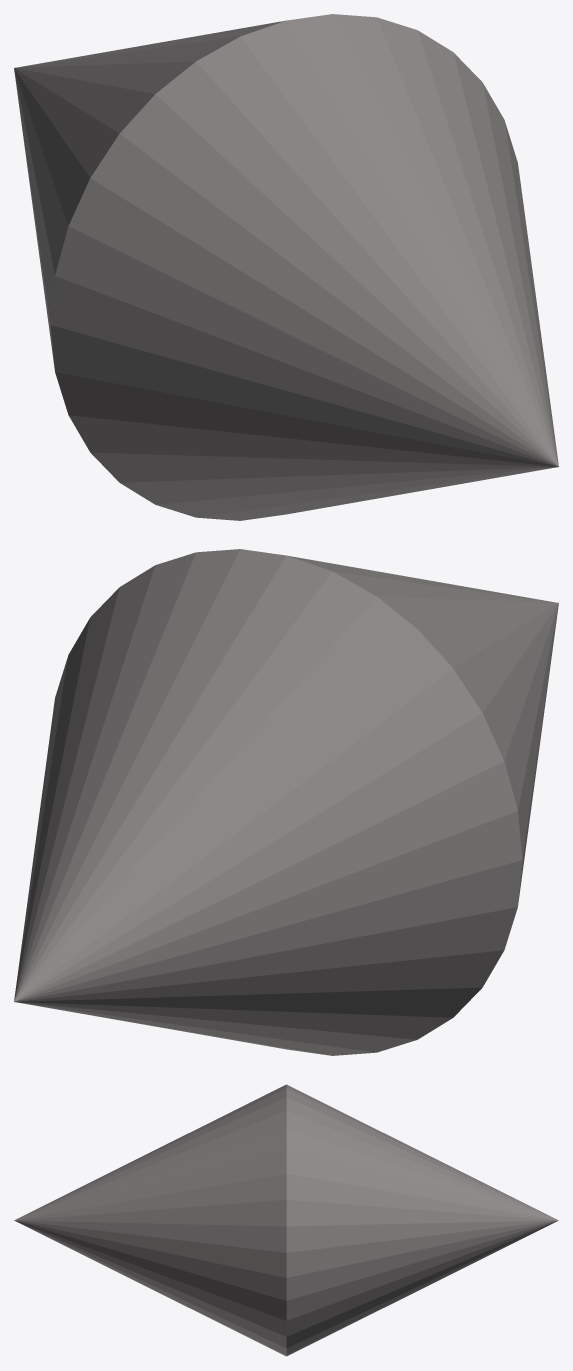
The model's file is Nuclear.obj.
3 views of the same model, one above another, from view 1: azimuth 30°, elevation 25°; view 2: azimuth 150°, elevation 25°; view 3: azimuth 270°, elevation 25° (orthographic). The views are drawn at different scales.
Parts seen in each view (by area): view 1: 円錐; view 2: 円錐; view 3: 円錐.
Boxes of the visible parts, left/top/right/bottom form: 円錐: left=14, top=14, right=558, bottom=520; 円錐: left=14, top=549, right=558, bottom=1055; 円錐: left=14, top=1084, right=558, bottom=1356.
Size of the model in its own units: 1 by 1 by 2.
